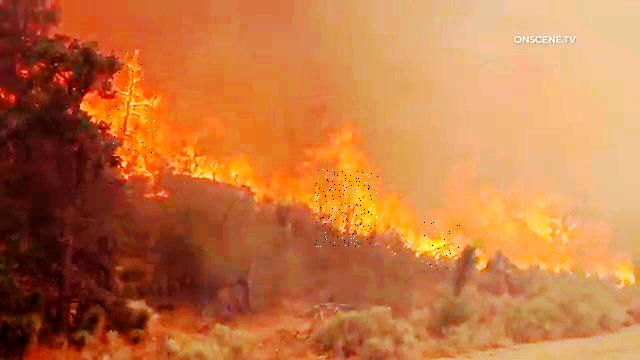fire: (106, 49, 158, 157), (316, 170, 379, 248), (420, 220, 461, 271)
